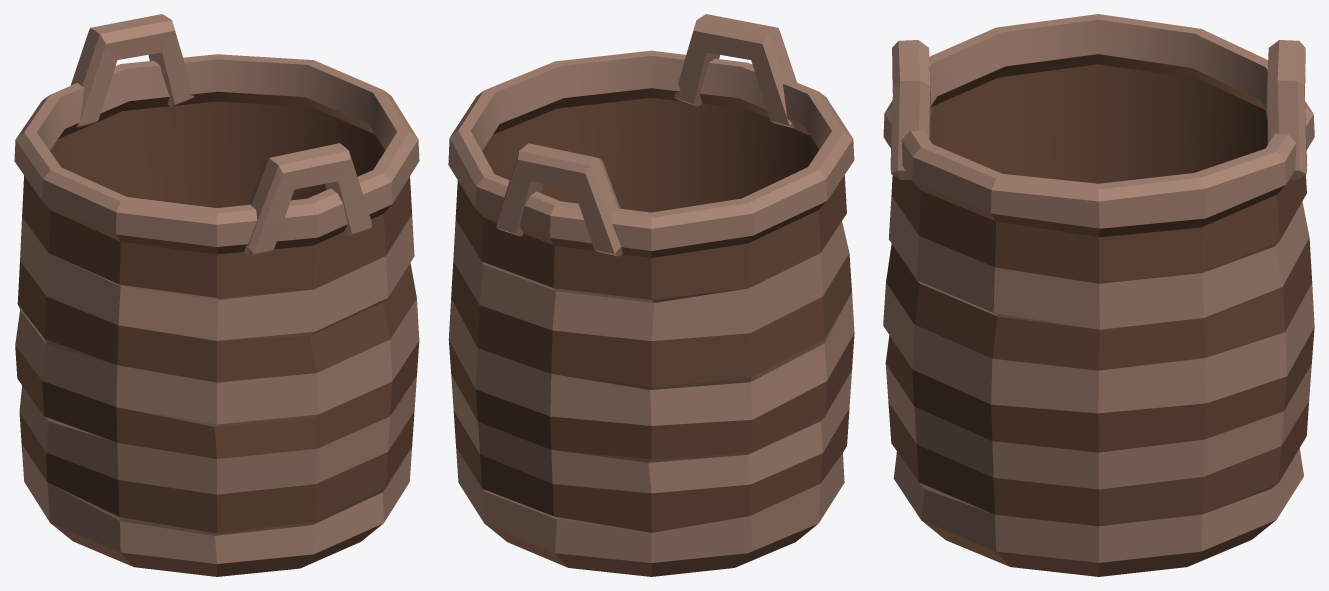
File: Basket.fbx
3 views of the same model, side by side, from view 1: azimuth 30°, elevation 25°; view 2: azimuth 150°, elevation 25°; view 3: azimuth 270°, elevation 25° (orthographic). The views are drawn at different scales.
Parts seen in each view (by area): view 1: SM_Prop_Basket_01; view 2: SM_Prop_Basket_01; view 3: SM_Prop_Basket_01.
Part boxes in pixels (box(x1,y1,x2,y2)): SM_Prop_Basket_01: box(14, 14, 419, 576); SM_Prop_Basket_01: box(448, 14, 854, 576); SM_Prop_Basket_01: box(883, 14, 1314, 576).
Size of the model in its own units: 50.03 by 57.21 by 50.07.
